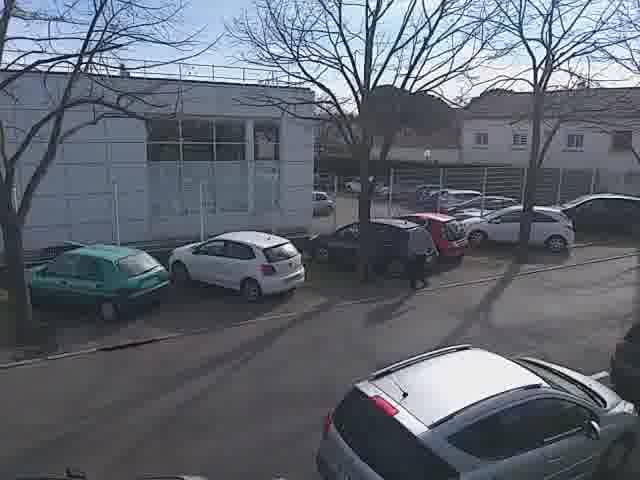persona: (400, 208, 438, 293)
